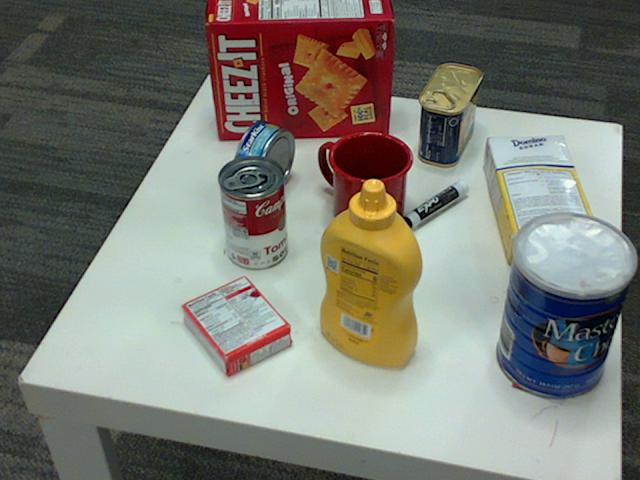cracker_box: (207, 0, 393, 137)
gelatin_box: (178, 275, 288, 377)
large_marker: (388, 183, 469, 238)
master_chef_can: (498, 213, 639, 400)
mug: (318, 129, 412, 232)
mustard_bottle: (319, 180, 422, 367)
potted_meat_can: (417, 64, 480, 167)
sugar_box: (483, 136, 599, 264)
tomato_soup_can: (218, 156, 287, 270)
tuna_fish_can: (231, 120, 294, 198)
